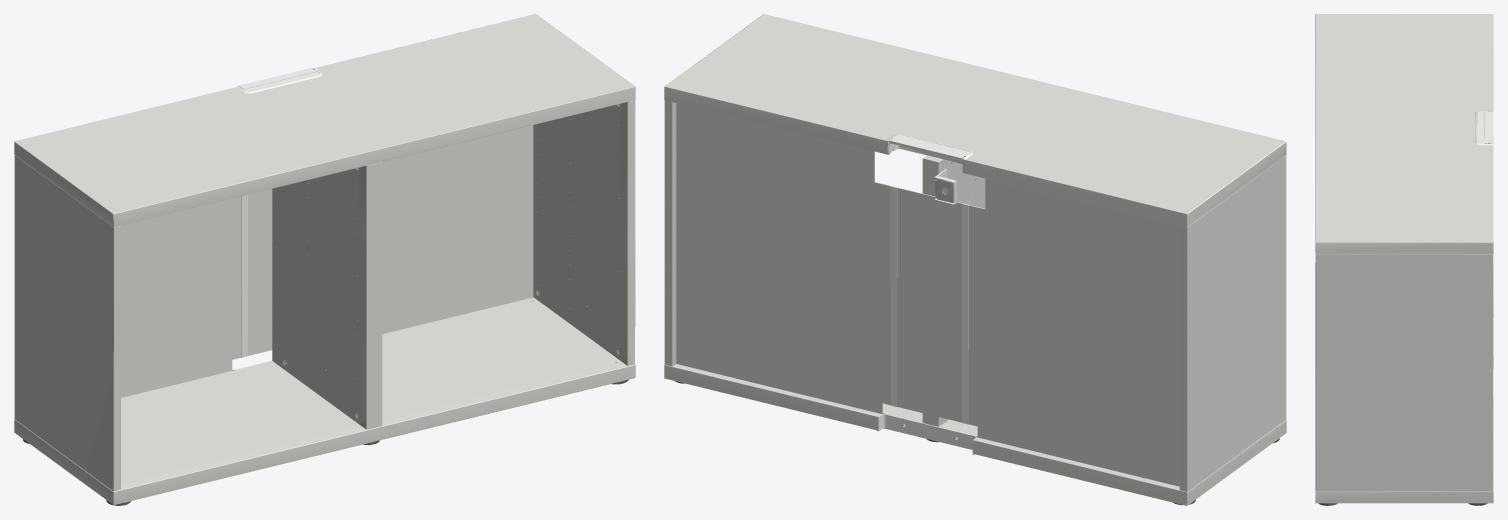
The model's file is 09 - BESTÅ TV bench - white 120x40x64 cm.glb.
3 views of the same model, side by side, from view 1: azimuth 30°, elevation 25°; view 2: azimuth 150°, elevation 25°; view 3: azimuth 270°, elevation 25° (orthographic). The views are drawn at different scales.
Parts seen in each view (by area): view 1: model; view 2: model; view 3: model.
Part boxes in pixels (x1,y1,x2,y2): model: (14,14,635,505); model: (664,14,1286,505); model: (1315,14,1493,505).
Size of the model in its own units: 1.2 by 0.65 by 0.396.
1 material, 1 textured.
